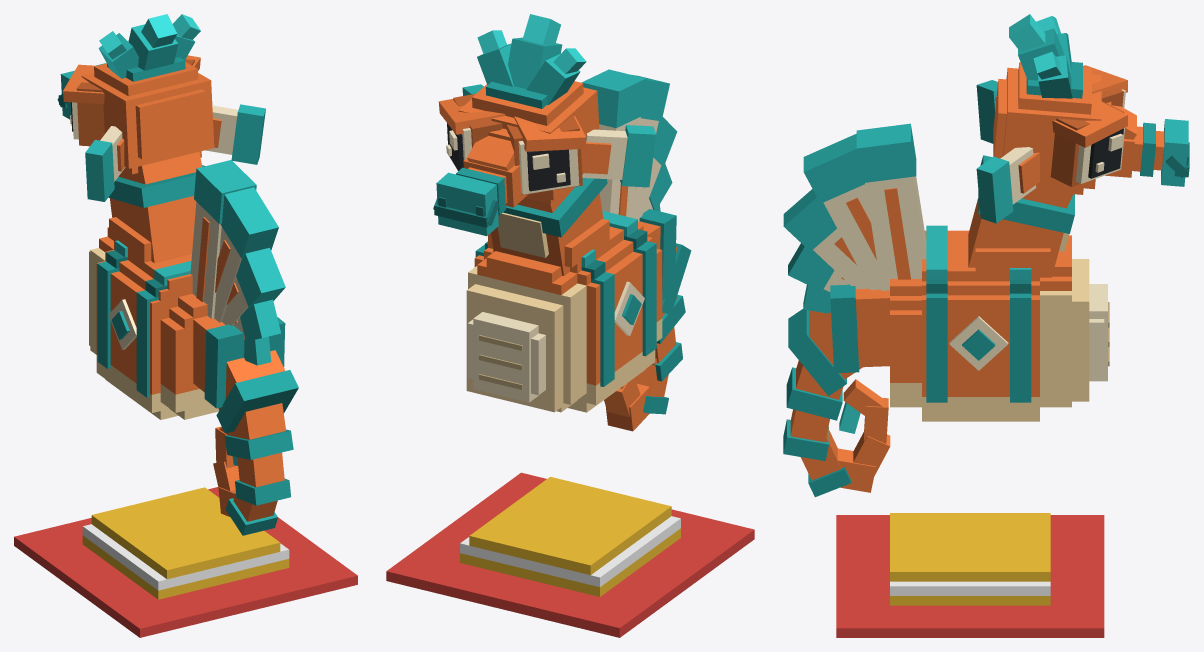
The model's file is SeahorseRocker2.obj.
3 renders of one model, left to right at view 1: azimuth 30°, elevation 25°; view 2: azimuth 150°, elevation 25°; view 3: azimuth 270°, elevation 25°, orthographic. The views are drawn at different scales.
Parts seen in each view (by area): view 1: Stand, Body, Head, Fan, Neck, T2, T1, T3, FinR, T4, FinL, T5 (+1 smaller); view 2: Stand, Body, Head, Fan, Neck, FinL, T1, T5, T4, T6, T7, T2 (+1 smaller); view 3: Body, Stand, Head, Fan, Neck, T1, FinR, T2, T3, T4, T5, FinL (+4 smaller).
Boxes of the visible parts, x1,y1,x2,y2 form: Stand: [14, 487, 357, 637]; Body: [89, 217, 219, 419]; Head: [57, 14, 214, 174]; Fan: [190, 160, 285, 365]; Neck: [108, 152, 205, 263]; T2: [216, 350, 298, 433]; T1: [193, 316, 285, 408]; T3: [224, 403, 293, 459]; FinR: [205, 104, 265, 164]; T4: [235, 452, 290, 505]; FinL: [85, 126, 125, 201]; T5: [225, 493, 277, 535]; Stand: [386, 472, 754, 637]; Body: [466, 211, 662, 412]; Head: [433, 14, 599, 236]; Fan: [582, 69, 677, 222]; Neck: [491, 178, 607, 275]; FinL: [581, 125, 656, 187]; T1: [638, 209, 676, 299]; T5: [635, 358, 668, 414]; T4: [652, 327, 682, 381]; T6: [605, 383, 649, 431]; T7: [604, 377, 640, 417]; T2: [662, 243, 691, 314]; Body: [890, 225, 1109, 421]; Stand: [836, 513, 1104, 637]; Head: [993, 14, 1189, 194]; Fan: [783, 123, 926, 313]; Neck: [968, 155, 1074, 277]; T1: [830, 284, 889, 373]; FinR: [976, 147, 1039, 223]; T2: [788, 309, 862, 396]; T3: [786, 360, 843, 420]; T4: [783, 409, 829, 461]; T5: [800, 428, 851, 497]; FinL: [976, 80, 997, 143].
Bounding box in the file's own units: 10 × 23.16 × 15.16.
1 material, 1 textured.
